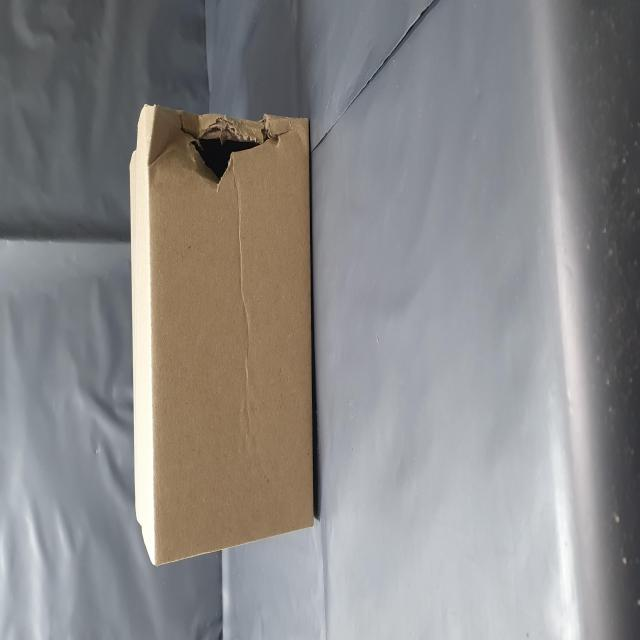damaged: (256, 266, 295, 498)
